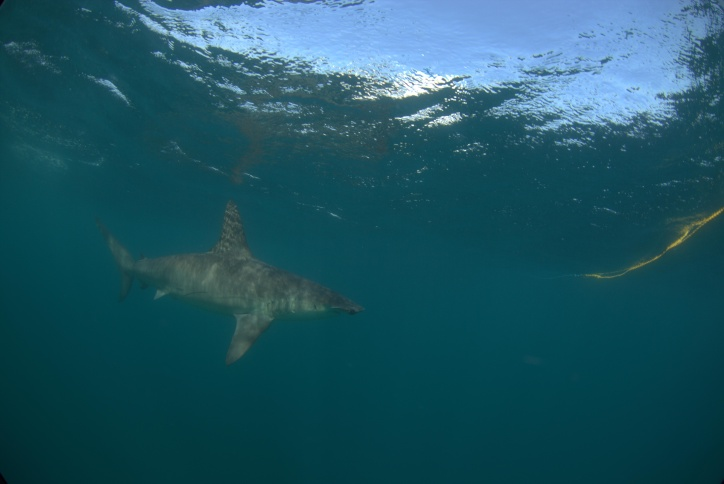Hammer: (37, 168, 410, 374)
